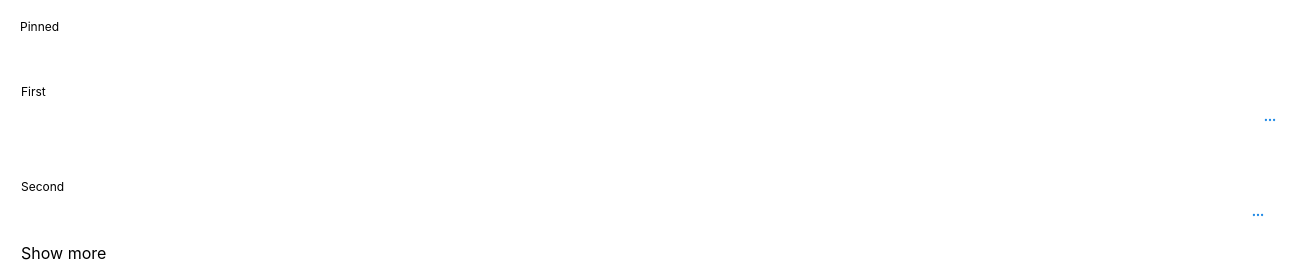
Test case: Pinned native order › does not move down beyond an unknown page boundary
What coordinates should you click on to do the following:
click the button named "Thread actions for First"
I would click on:
 (1270, 120)
Its box is [1256,106,1284,134].
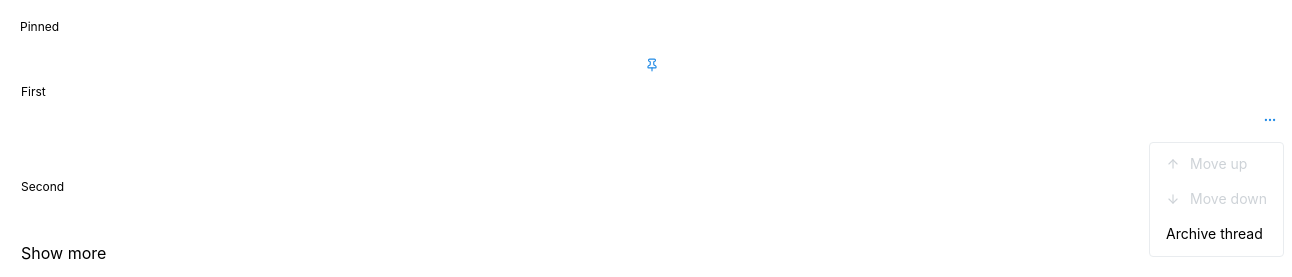
Check: the menu item "Move down" is disabled, box [1154,182,1279,217]
